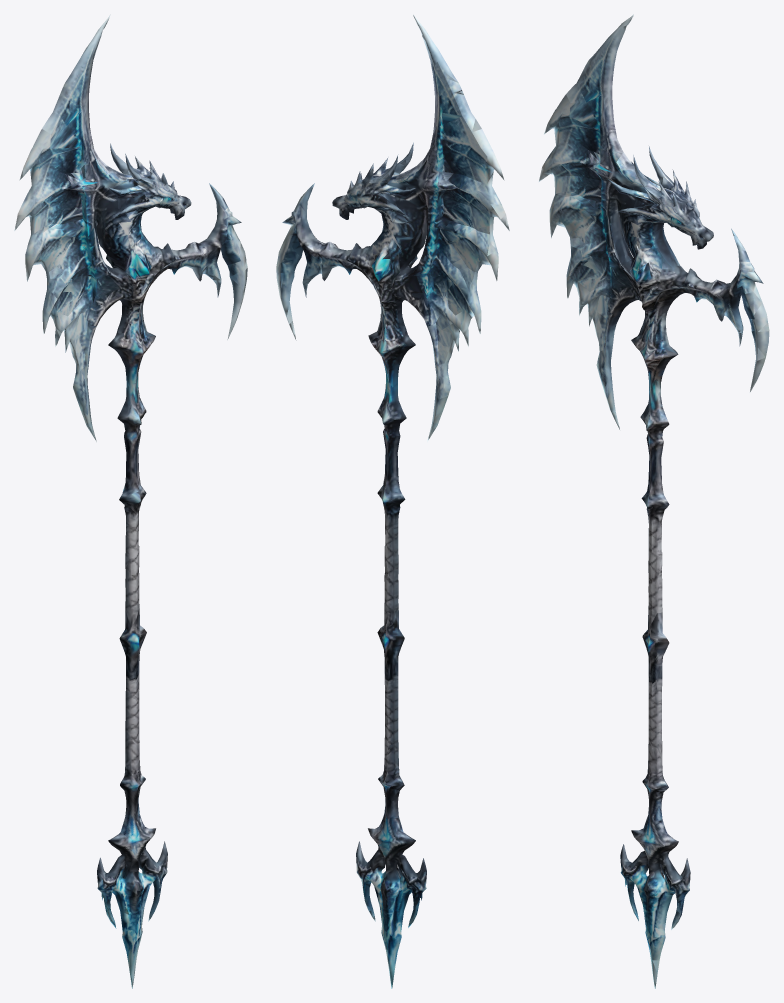
The model's file is FrostHalberd.fbx.
The picture shows the model from 3 angles, left to right: view 1: azimuth 30°, elevation 25°; view 2: azimuth 150°, elevation 25°; view 3: azimuth 330°, elevation 25°; orthographic projection.
Parts seen in each view (by area): view 1: FrostHalberd; view 2: FrostHalberd; view 3: FrostHalberd.
Part boxes in pixels (x1,y1,x2,y2): FrostHalberd: (14,14,247,988); FrostHalberd: (276,14,509,988); FrostHalberd: (538,14,769,988).
Size of the model in its own units: 24.93 by 99.99 by 6.75.
